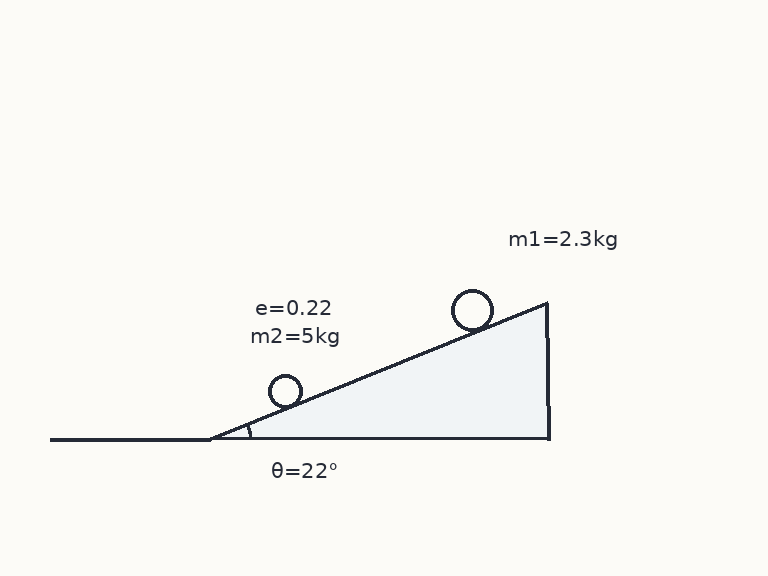ball: (449, 287, 495, 333), (266, 372, 304, 410)
ramp: (208, 301, 549, 441)
